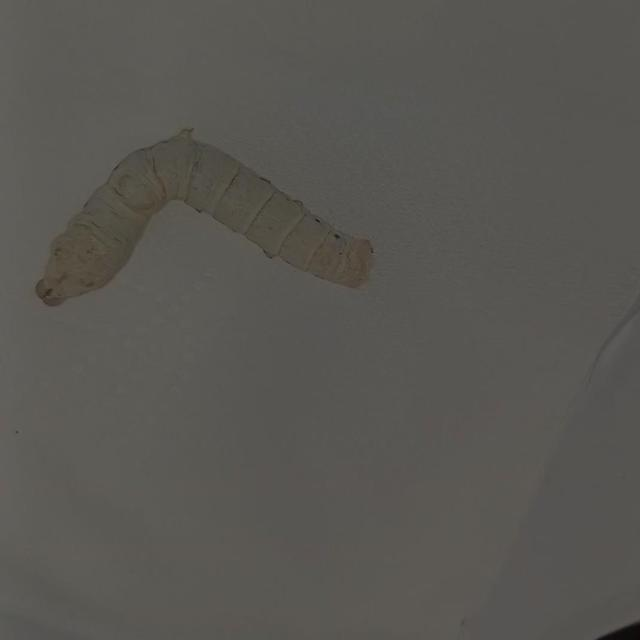Healthy: (18, 99, 401, 348)
